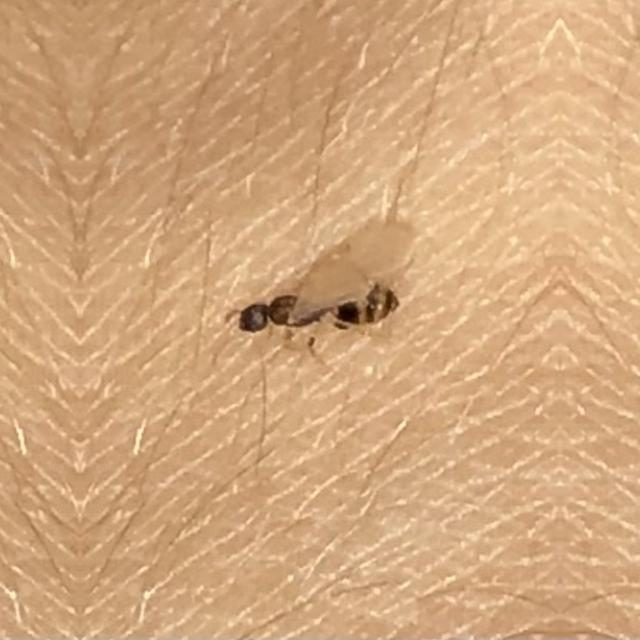Temnothorax: (214, 235, 418, 368)
